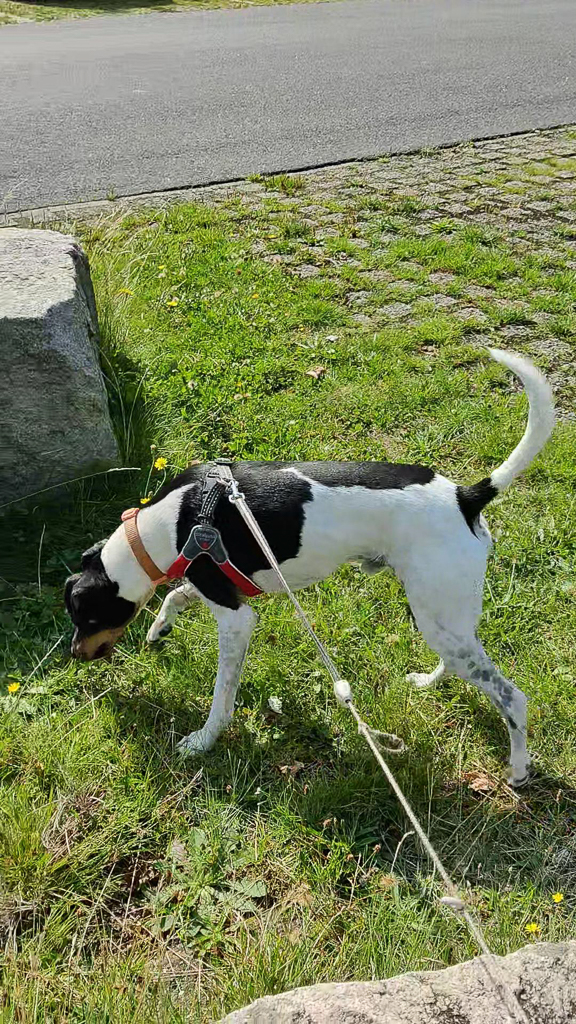Dog: (46, 341, 562, 802)
